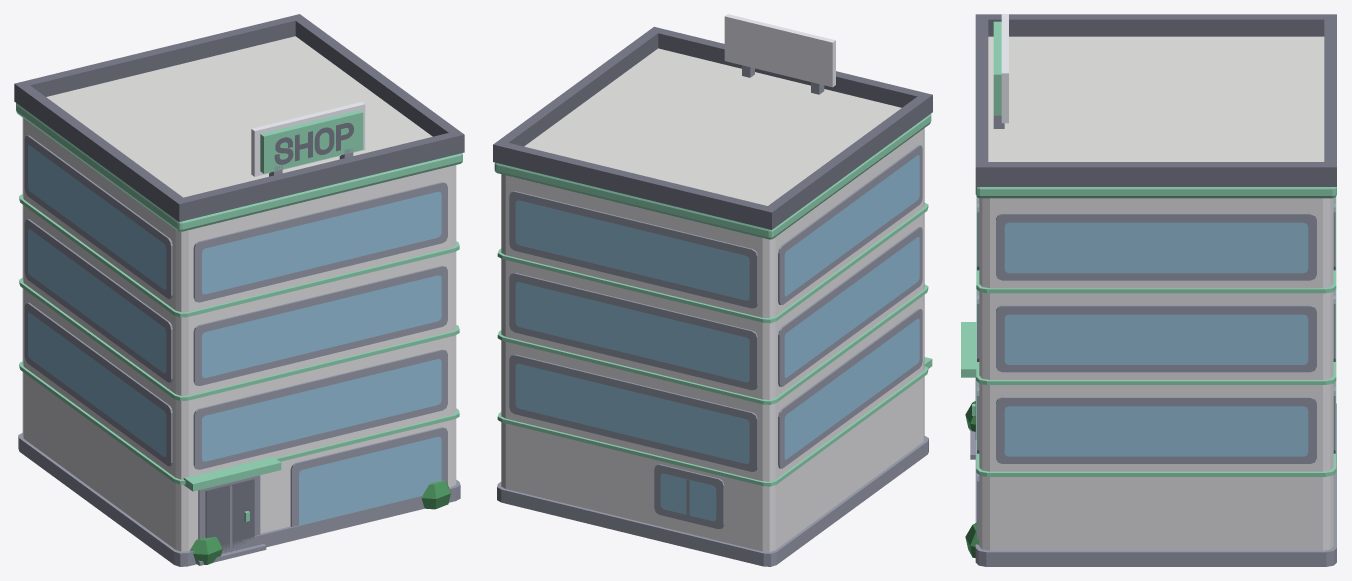
Rendered from shop-general-1x1-t4-tone-a.glb.
The picture shows the model from 3 angles, left to right: view 1: azimuth 30°, elevation 25°; view 2: azimuth 150°, elevation 25°; view 3: azimuth 270°, elevation 25°; orthographic projection. The views are drawn at different scales.
Parts seen in each view (by area): view 1: shop-general-1x1-t4-tone-a; view 2: shop-general-1x1-t4-tone-a; view 3: shop-general-1x1-t4-tone-a.
Boxes of the visible parts, x1,y1,x2,y2 form: shop-general-1x1-t4-tone-a: [14, 14, 464, 566]; shop-general-1x1-t4-tone-a: [493, 14, 932, 566]; shop-general-1x1-t4-tone-a: [961, 14, 1336, 566].
Size of the model in its own units: 1 by 1.36 by 1.04.
Materials: 1 (1 with a texture image).
